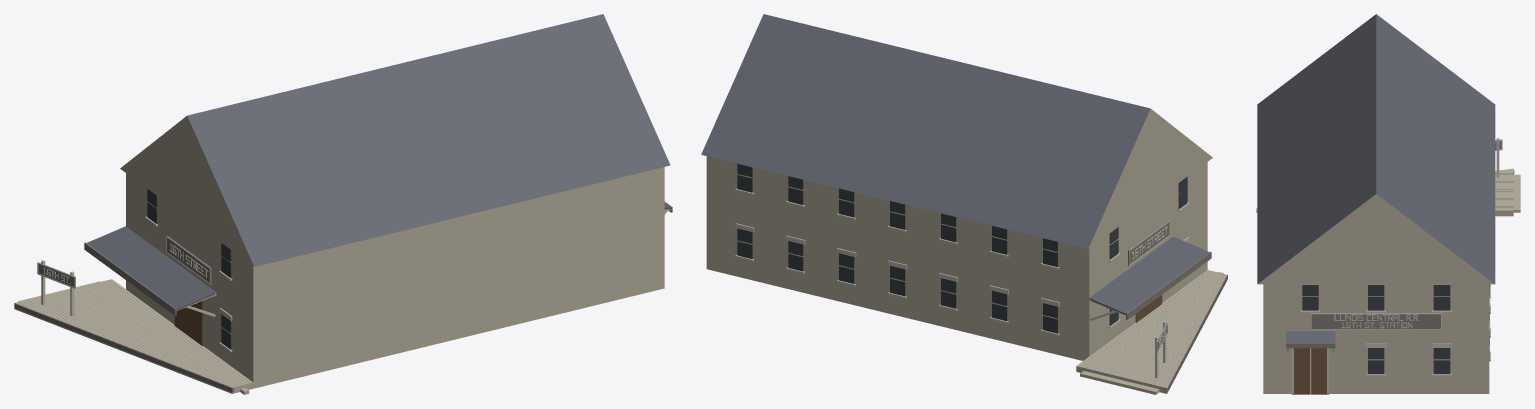
File: ic_16th_street_station_1605_prairie__draft_1904.glb
3 renders of one model, left to right at view 1: azimuth 30°, elevation 25°; view 2: azimuth 150°, elevation 25°; view 3: azimuth 270°, elevation 25°, orthographic. The views are drawn at different scales.
Visible parts, largest first — view 1: ic_16th_street_station_1605_prairie__draft_1904; view 2: ic_16th_street_station_1605_prairie__draft_1904; view 3: ic_16th_street_station_1605_prairie__draft_1904.
Part boxes in pixels (bbox=[...]): ic_16th_street_station_1605_prairie__draft_1904: bbox=[14, 14, 672, 394]; ic_16th_street_station_1605_prairie__draft_1904: bbox=[701, 14, 1227, 394]; ic_16th_street_station_1605_prairie__draft_1904: bbox=[1256, 14, 1520, 394].
Bounding box in the file's own units: 26.4 × 10.81 × 12.89.
